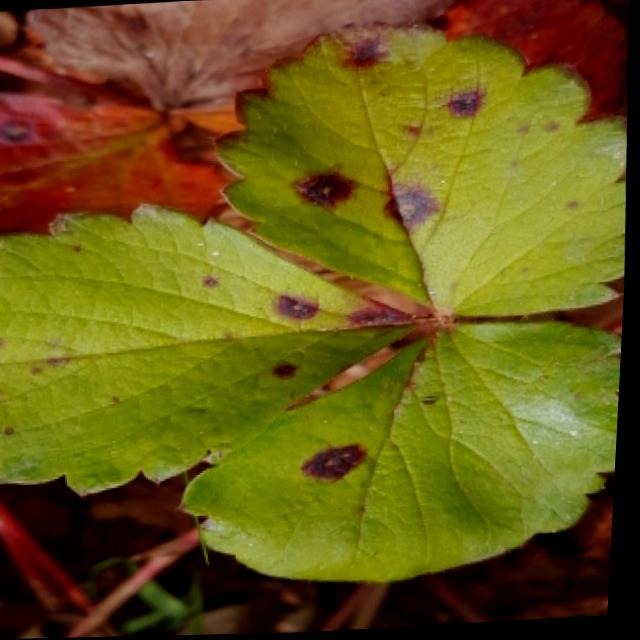Leaf Spot: (0, 200, 433, 499), (214, 20, 628, 319), (178, 316, 626, 586), (0, 88, 256, 235)
